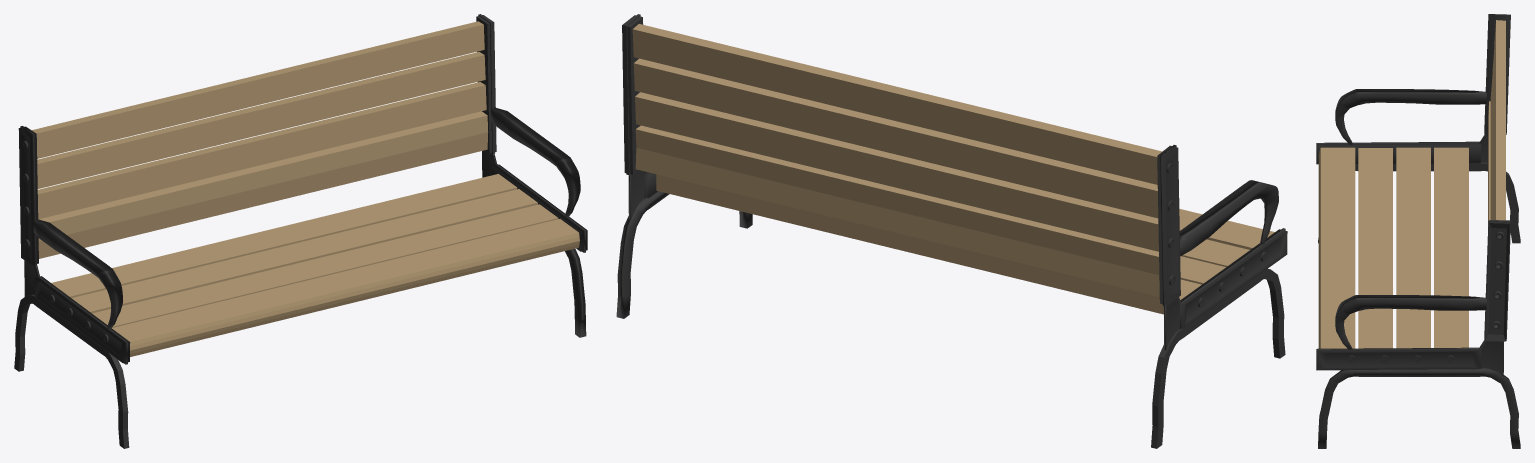
Rendered from ParkBench.fbx.
3 views of the same model, side by side, from view 1: azimuth 30°, elevation 25°; view 2: azimuth 150°, elevation 25°; view 3: azimuth 270°, elevation 25° (orthographic). The views are drawn at different scales.
Parts seen in each view (by area): view 1: TopBenchBoards, Bottom Bench, L_LowerBenchSide, L_BenchLegs, R_Handle, L_Handle, L_BenchSide, R_HigherBenchside, R_Lowerbenchside, R_BenchLegs; view 2: TopBenchBoards, Bottom Bench, L_LowerBenchSide, L_BenchSide, L_BenchLegs, L_Handle, R_HigherBenchside, R_BenchLegs; view 3: Bottom Bench, R_Lowerbenchside, TopBenchBoards, R_BenchLegs, R_HigherBenchside, L_Handle, R_Handle, L_LowerBenchSide, L_BenchSide, L_BenchLegs, R_Metal Connection, R_LowerNails (+1 smaller).
Part boxes in pixels (bbox=[...]): TopBenchBoards: bbox=[32, 21, 488, 258]; Bottom Bench: bbox=[51, 174, 579, 356]; L_LowerBenchSide: bbox=[34, 276, 130, 364]; L_BenchLegs: bbox=[14, 294, 129, 448]; R_Handle: bbox=[491, 107, 580, 217]; L_Handle: bbox=[33, 219, 122, 328]; L_BenchSide: bbox=[18, 126, 38, 265]; R_HigherBenchside: bbox=[476, 14, 496, 153]; R_Lowerbenchside: bbox=[492, 164, 587, 252]; R_BenchLegs: bbox=[565, 248, 586, 337]; TopBenchBoards: bbox=[632, 24, 1162, 296]; Bottom Bench: bbox=[656, 174, 1274, 314]; L_LowerBenchSide: bbox=[1180, 228, 1287, 328]; L_BenchSide: bbox=[1157, 145, 1180, 305]; L_BenchLegs: bbox=[1151, 268, 1285, 448]; L_Handle: bbox=[1179, 180, 1278, 255]; R_HigherBenchside: bbox=[622, 14, 643, 174]; R_BenchLegs: bbox=[616, 191, 752, 318]; Bottom Bench: bbox=[1318, 147, 1468, 348]; R_Lowerbenchside: bbox=[1316, 347, 1481, 370]; TopBenchBoards: bbox=[1488, 20, 1505, 226]; R_BenchLegs: bbox=[1318, 368, 1520, 448]; R_HigherBenchside: bbox=[1484, 220, 1510, 341]; L_Handle: bbox=[1335, 89, 1486, 144]; R_Handle: bbox=[1335, 295, 1486, 349]; L_LowerBenchSide: bbox=[1316, 141, 1481, 164]; L_BenchSide: bbox=[1484, 14, 1510, 135]; L_BenchLegs: bbox=[1318, 162, 1520, 243]; R_Metal Connection: bbox=[1479, 340, 1503, 376]; R_LowerNails: bbox=[1347, 355, 1454, 363].
Size of the model in its own units: 857 by 426 by 348.
